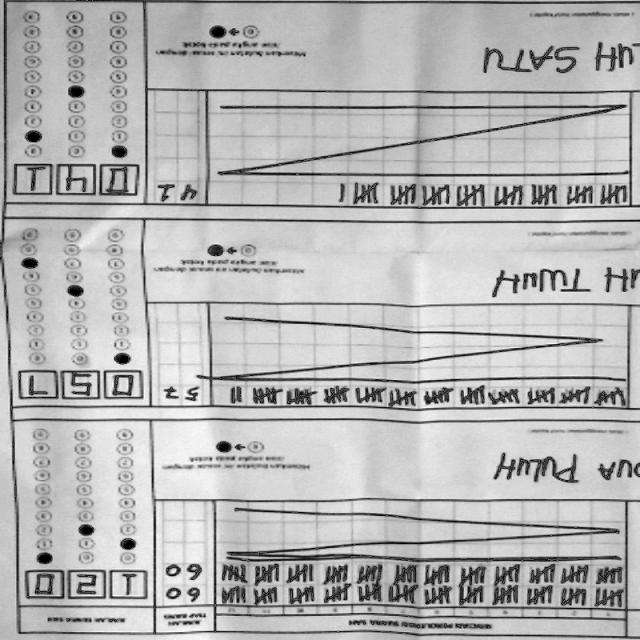Suara: (18, 367, 149, 409), (22, 564, 152, 606), (13, 161, 143, 202)
